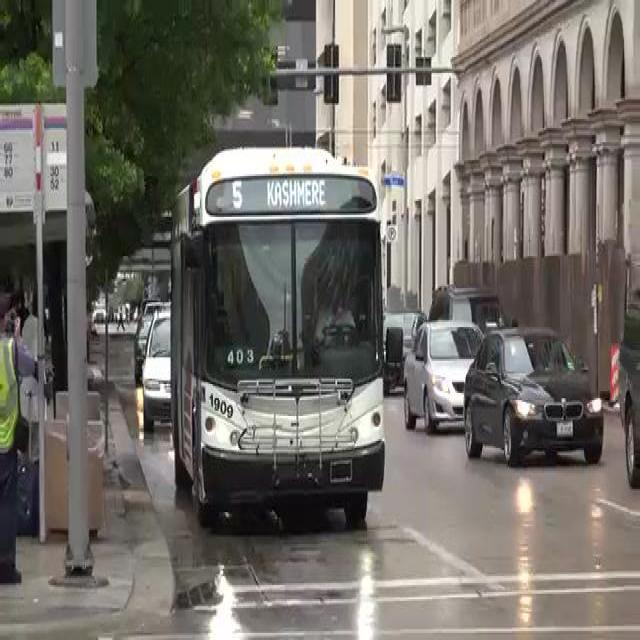motorcycle: (165, 164, 396, 494)
